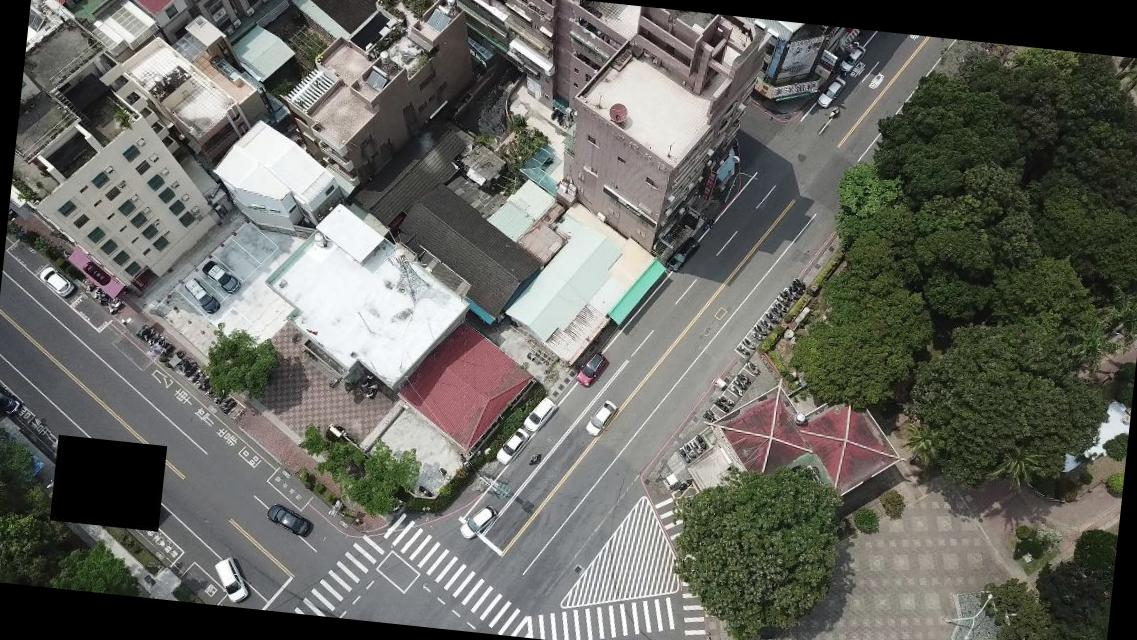vehicle: (210, 554, 253, 606), (264, 502, 315, 538), (458, 500, 498, 542), (181, 276, 222, 314), (199, 260, 244, 294), (521, 394, 558, 435), (495, 426, 530, 468), (584, 398, 619, 438), (574, 350, 609, 389), (36, 266, 76, 300), (665, 233, 700, 271), (814, 74, 846, 110), (0, 378, 24, 416), (838, 42, 866, 74)
